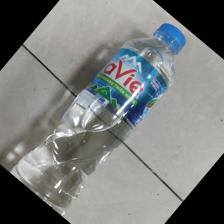Lavie: (8, 20, 188, 218)
